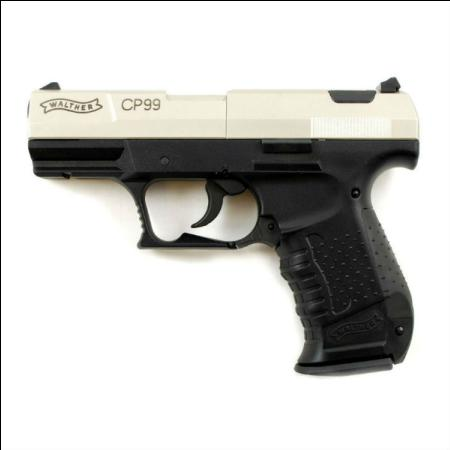Pistol: (24, 74, 418, 376)
